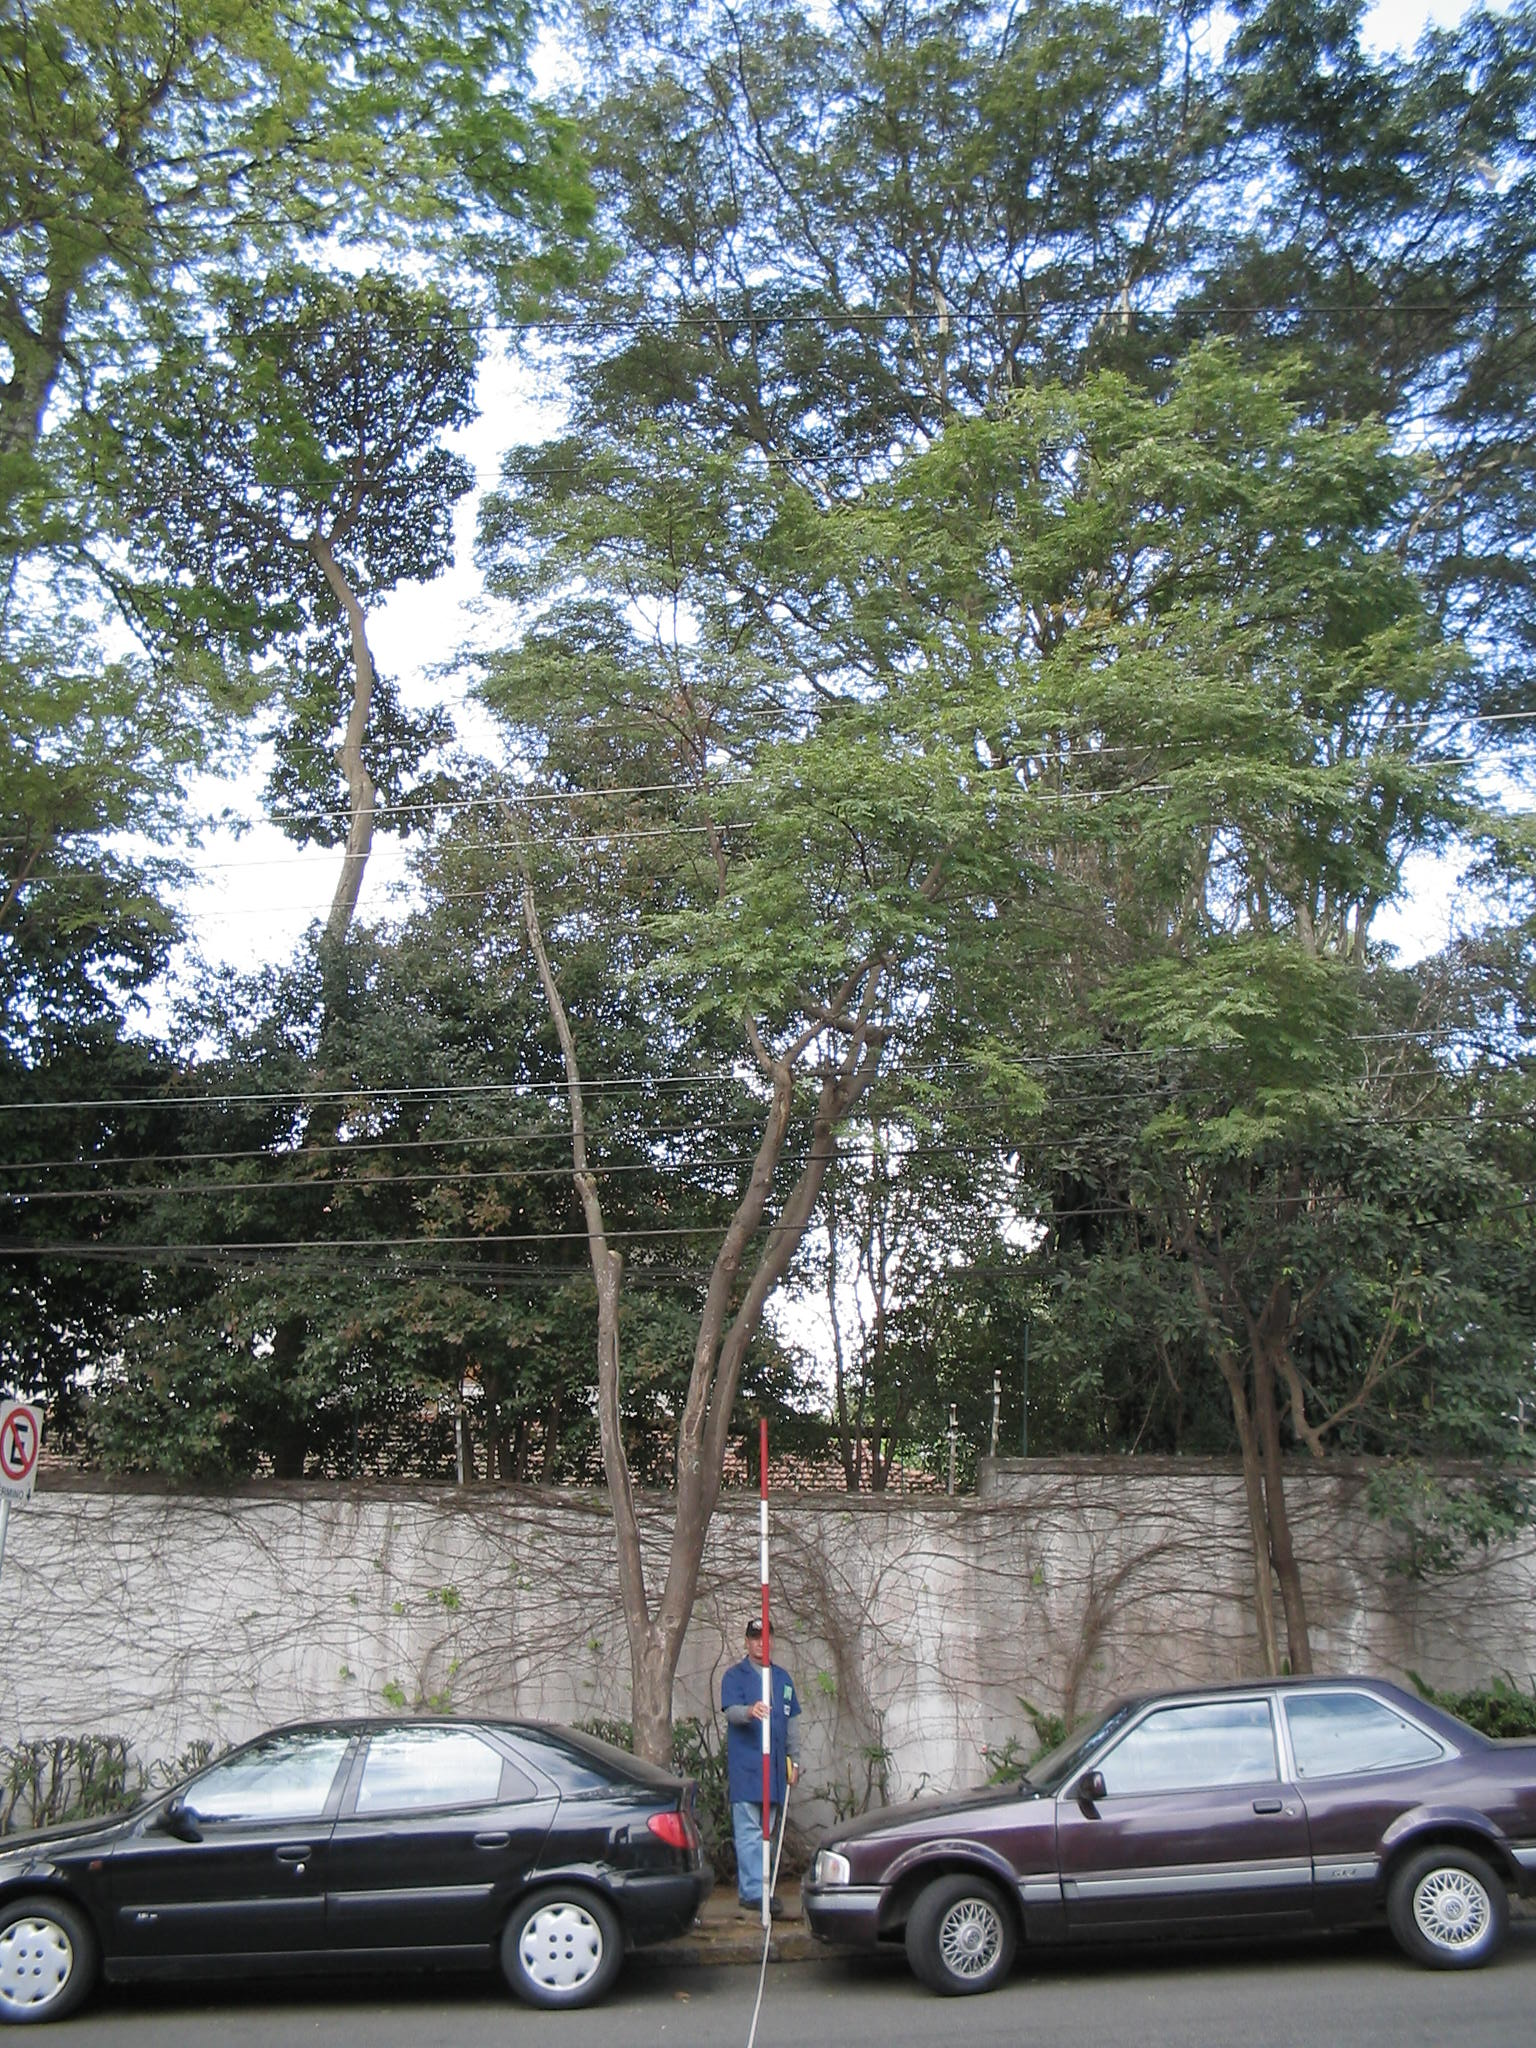crown: (416, 364, 1454, 1255)
stem: (603, 1632, 724, 1932)
stick: (737, 1419, 795, 1932)
tree: (416, 360, 1463, 1932)
